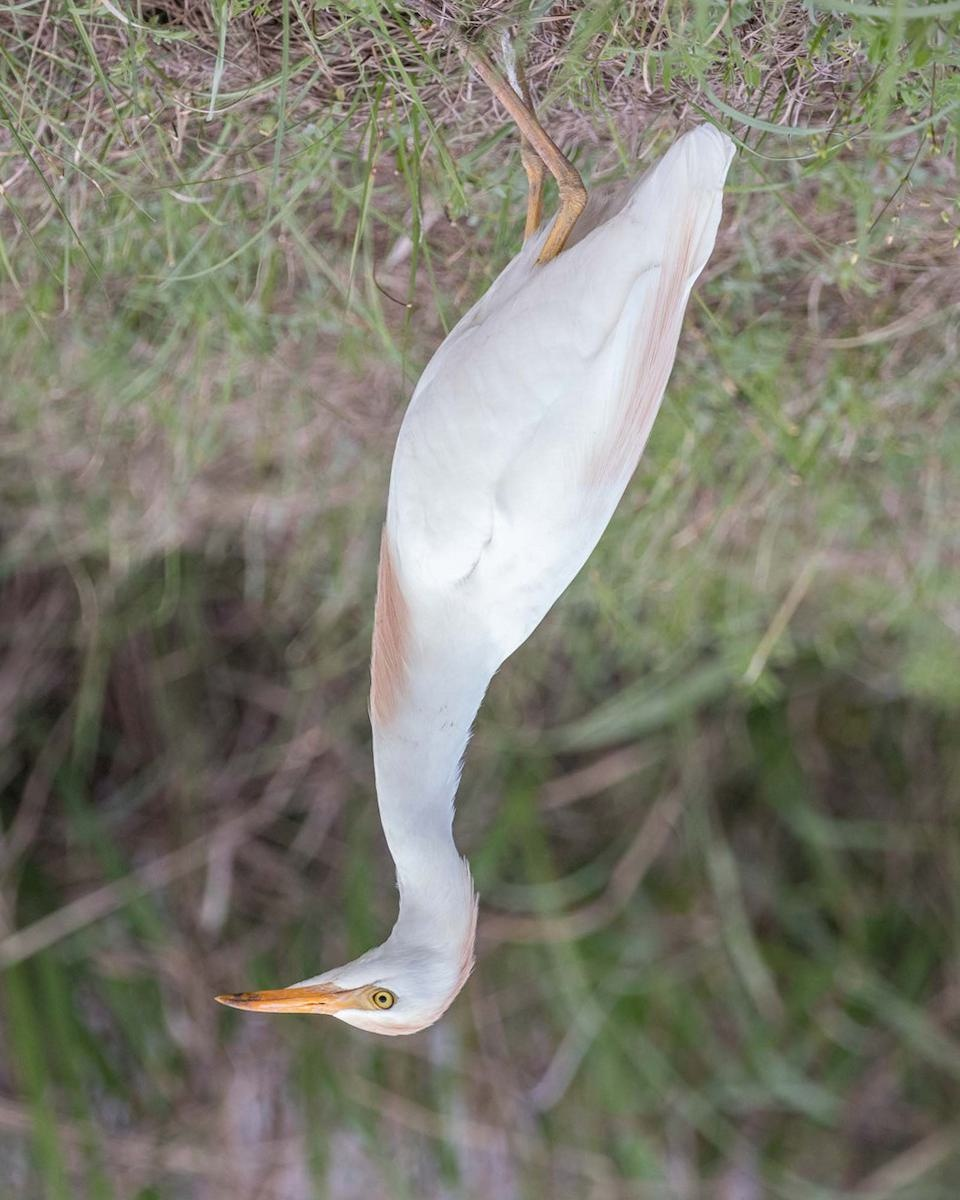egret: (207, 53, 735, 1049)
